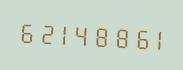eight: (89, 19, 106, 50), (107, 20, 124, 51)
four: (71, 18, 88, 49)
one: (143, 22, 160, 53), (53, 18, 70, 48)
six: (125, 21, 142, 52), (17, 16, 34, 46)
two: (35, 17, 52, 47)
